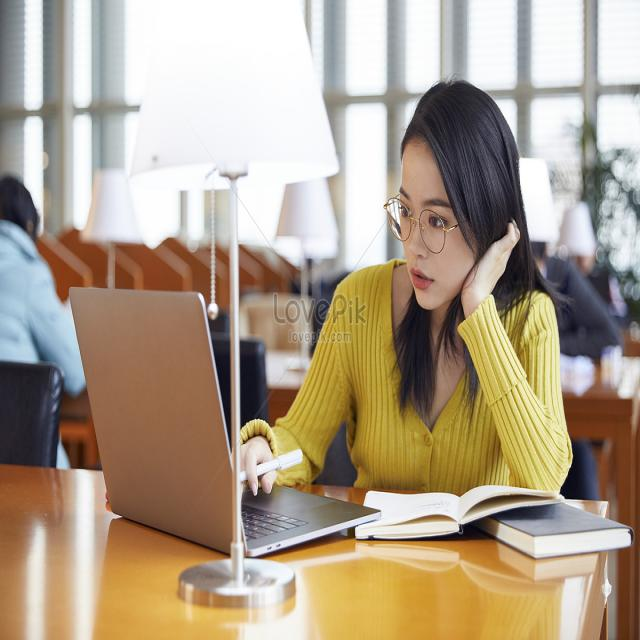studying-person: (231, 65, 640, 580)
